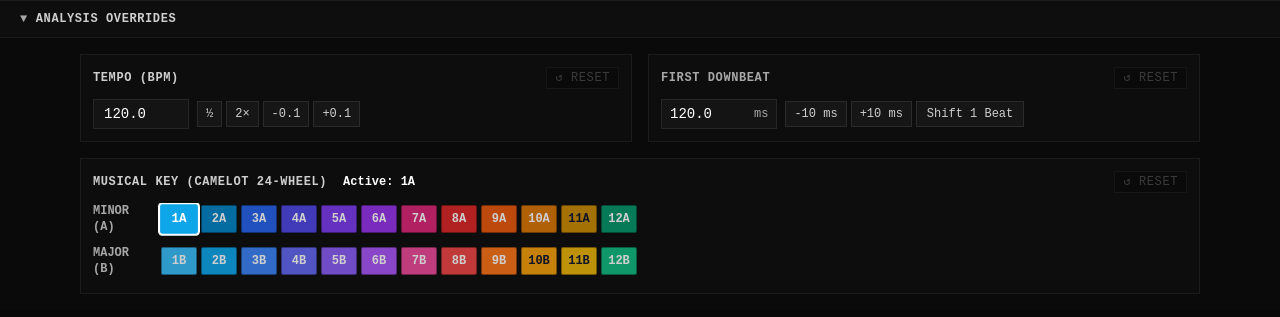
Test: OverridePanel Component › halves BPM when ½ button is clicked and displays edited badge
The width and height of the screenshot is (1280, 317).
Click the button with test id "bpm-half-btn".
click(210, 114)  # box x1=197 y1=101 x2=222 y2=127
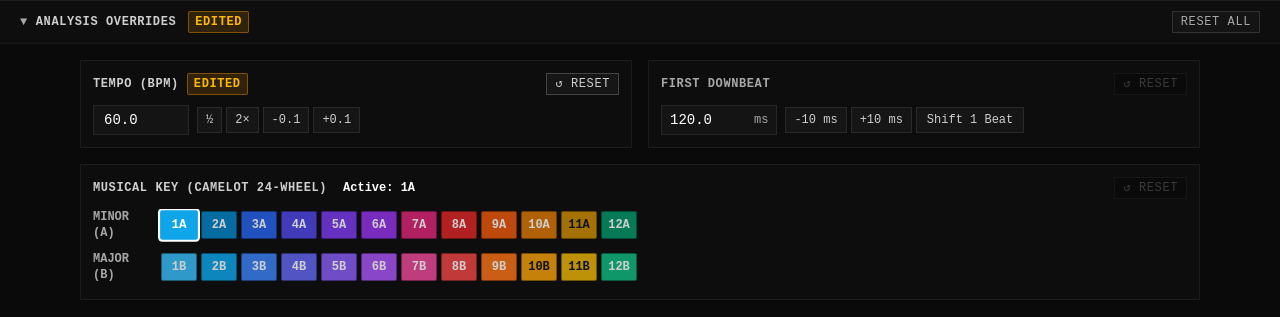
expect the text with test id "edited-badge-bpm" is shown: met, box x1=187 y1=73 x2=248 y2=95
